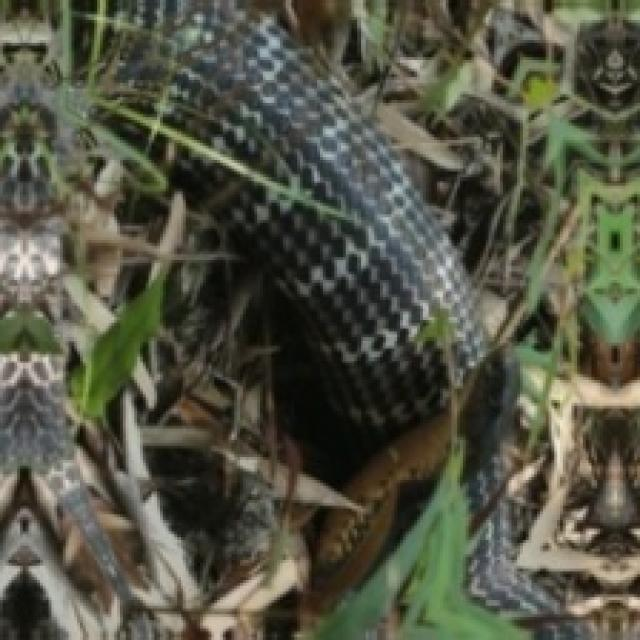king cobra: (0, 0, 483, 637)
